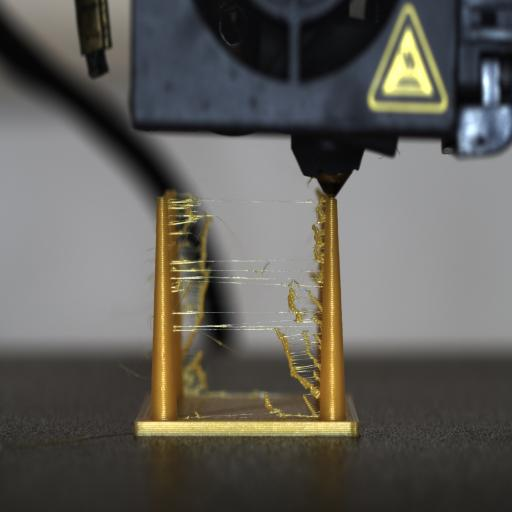stringing: (286, 278, 320, 322), (166, 197, 205, 231), (302, 394, 319, 416), (264, 391, 276, 413), (313, 241, 325, 261), (316, 196, 326, 217), (256, 260, 270, 273), (312, 224, 324, 238), (172, 278, 182, 292), (281, 281, 295, 287), (168, 240, 178, 247), (194, 410, 202, 418)
